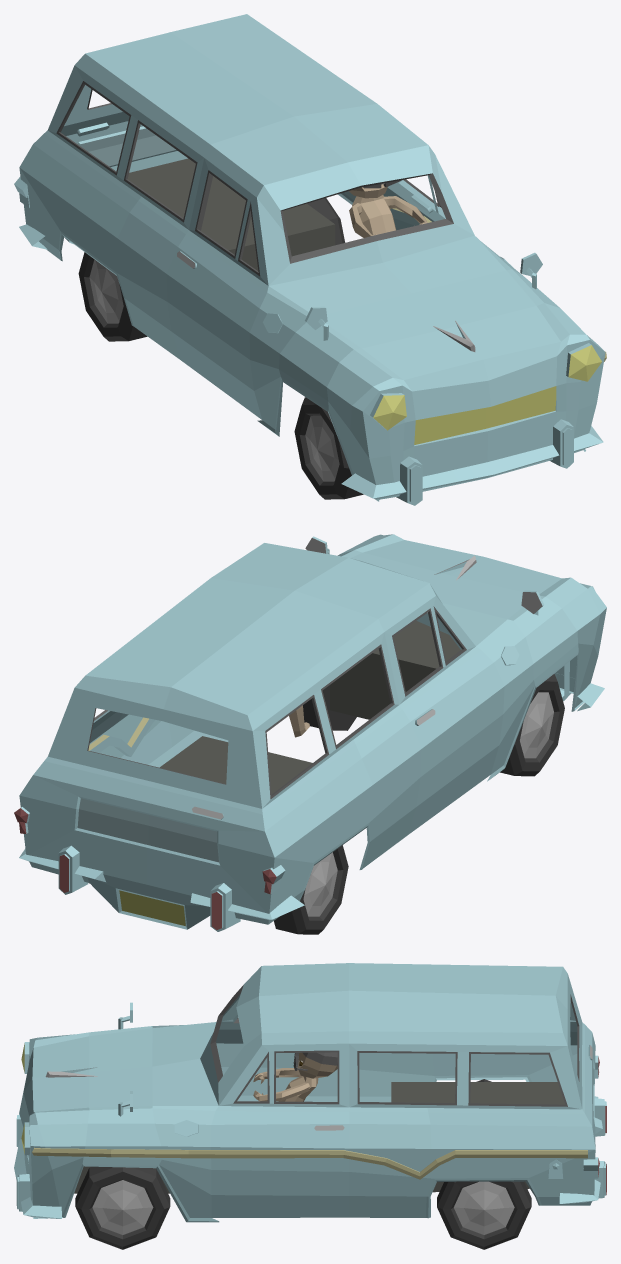
The model's file is car colour.fbx.
3 views of the same model, one above another, from view 1: azimuth 30°, elevation 25°; view 2: azimuth 150°, elevation 25°; view 3: azimuth 270°, elevation 25° (orthographic). The views are drawn at different scales.
Visible parts, largest first — view 1: CarBody_Human:polySurface10, chassis2:polySurface8, CarBody_Human:group1pSphere2; view 2: CarBody_Human:polySurface10, chassis2:polySurface8; view 3: CarBody_Human:polySurface10, chassis2:polySurface8, CarBody_Human:group1pSphere2.
Boxes of the visible parts, <box> form: CarBody_Human:polySurface10: <box>14,14,606,505</box>; chassis2:polySurface8: <box>78,158,363,499</box>; CarBody_Human:group1pSphere2: <box>349,184,427,237</box>; CarBody_Human:polySurface10: <box>14,534,606,931</box>; chassis2:polySurface8: <box>89,621,564,934</box>; CarBody_Human:polySurface10: <box>14,963,606,1222</box>; chassis2:polySurface8: <box>74,1079,565,1249</box>; CarBody_Human:group1pSphere2: <box>253,1052,337,1101</box>.
Size of the model in its own units: 6.97 by 6.33 by 15.7.
